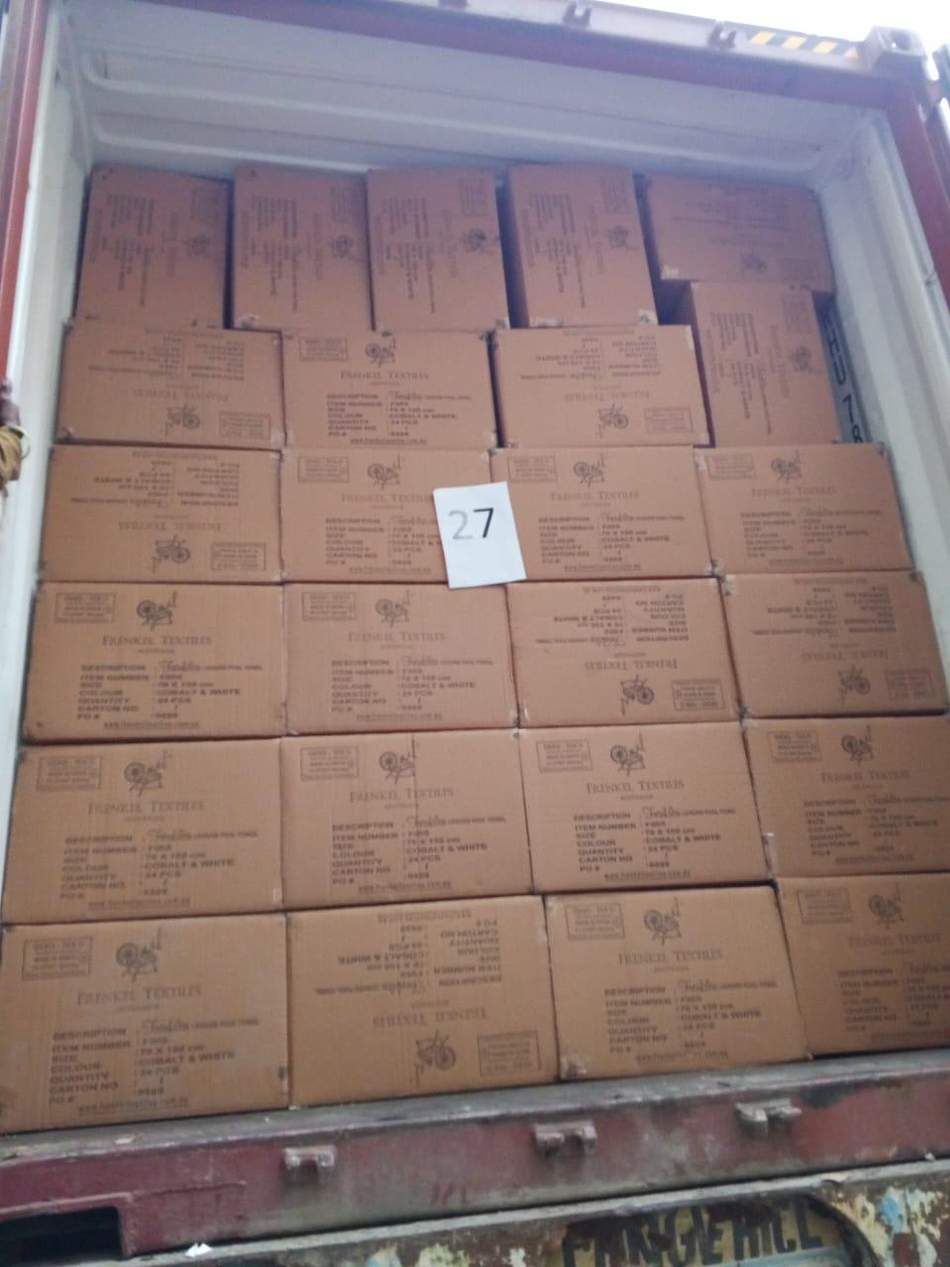carton: (1, 914, 281, 1128), (288, 893, 555, 1107), (2, 733, 280, 924), (544, 883, 805, 1080), (276, 727, 530, 909), (517, 721, 767, 894), (23, 582, 282, 742), (503, 575, 742, 729), (282, 583, 516, 734), (742, 717, 950, 884), (34, 443, 276, 586), (718, 568, 944, 718), (772, 870, 950, 1059), (487, 442, 712, 585), (692, 440, 914, 574), (278, 448, 498, 583), (53, 322, 276, 450), (488, 323, 710, 449), (672, 278, 836, 446), (275, 329, 501, 447), (501, 161, 660, 327), (70, 162, 229, 328), (365, 163, 512, 330), (230, 162, 373, 330), (641, 171, 831, 297)
